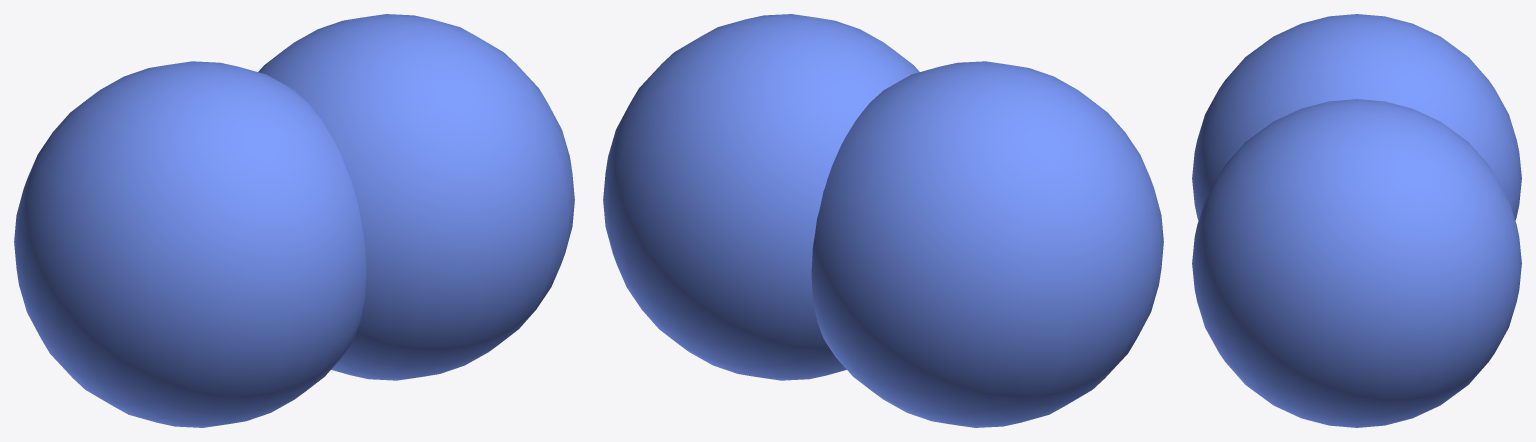
The model's file is 07_N2_CKP.fbx.
3 views of the same model, side by side, from view 1: azimuth 30°, elevation 25°; view 2: azimuth 150°, elevation 25°; view 3: azimuth 270°, elevation 25° (orthographic). The views are drawn at different scales.
Visible parts, largest first — view 1: N.003, N.004; view 2: N.003, N.004; view 3: N.004, N.003.
Boxes of the visible parts, x1=… form: N.003: x1=14, y1=61, x2=366, y2=427; N.004: x1=258, y1=14, x2=574, y2=380; N.003: x1=811, y1=61, x2=1163, y2=427; N.004: x1=603, y1=14, x2=919, y2=380; N.004: x1=1192, y1=99, x2=1521, y2=427; N.003: x1=1192, y1=14, x2=1521, y2=220.
Size of the model in its own units: 290 by 180 by 180.
